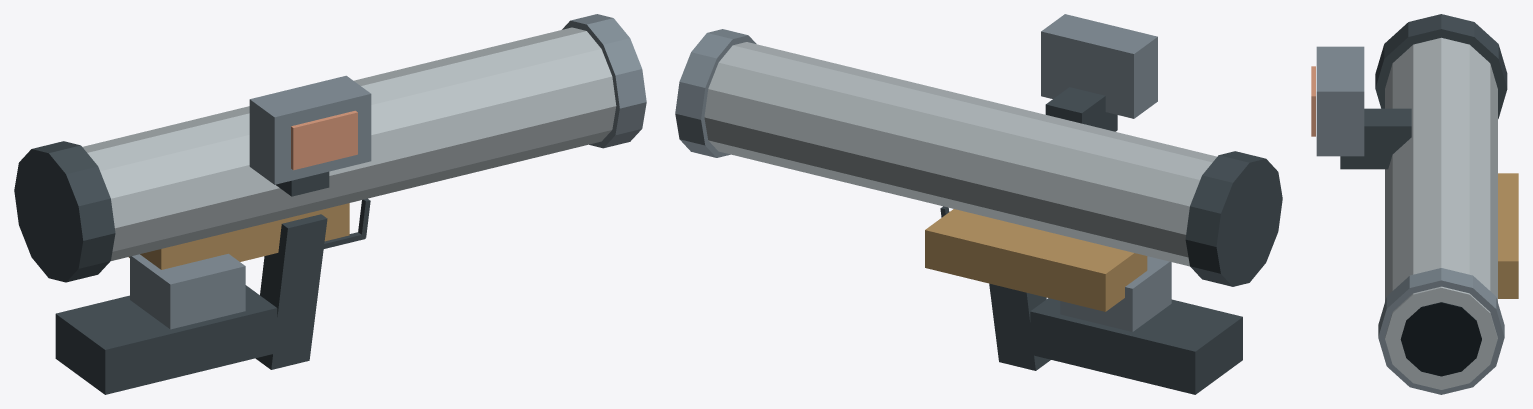
File: w19-pilgrim-static.glb
3 views of the same model, side by side, from view 1: azimuth 30°, elevation 25°; view 2: azimuth 150°, elevation 25°; view 3: azimuth 270°, elevation 25° (orthographic). The views are drawn at different scales.
Visible parts, largest first — view 1: w19-pilgrim__barrel.001, w19-pilgrim__shoulder_rest.001, w19-pilgrim__rear_exhaust.001, w19-pilgrim__targeting_unit.001, w19-pilgrim__grip.001, w19-pilgrim__shoulder_rest_mount.001, w19-pilgrim__muzzle_collar.001, w19-pilgrim__reload_tray.001, w19-pilgrim__sight_glass.001, w19-pilgrim__targeting_mount.001; view 2: w19-pilgrim__barrel.001, w19-pilgrim__reload_tray.001, w19-pilgrim__shoulder_rest.001, w19-pilgrim__rear_exhaust.001, w19-pilgrim__targeting_unit.001, w19-pilgrim__muzzle_collar.001, w19-pilgrim__shoulder_rest_mount.001, w19-pilgrim__grip.001, w19-pilgrim__targeting_mount.001; view 3: w19-pilgrim__barrel.001, w19-pilgrim__targeting_unit.001, w19-pilgrim__barrel_bore.001, w19-pilgrim__rear_exhaust.001, w19-pilgrim__muzzle_collar.001, w19-pilgrim__targeting_mount.001, w19-pilgrim__reload_tray.001, w19-pilgrim__sight_glass.001.
Boxes of the visible parts, x1,y1,x2,y2 form: w19-pilgrim__barrel.001: (82, 27, 616, 260); w19-pilgrim__shoulder_rest.001: (55, 285, 277, 394); w19-pilgrim__rear_exhaust.001: (14, 141, 115, 282); w19-pilgrim__targeting_unit.001: (249, 75, 371, 184); w19-pilgrim__grip.001: (255, 214, 327, 369); w19-pilgrim__shoulder_rest_mount.001: (130, 253, 245, 329); w19-pilgrim__muzzle_collar.001: (562, 14, 646, 148); w19-pilgrim__reload_tray.001: (128, 203, 349, 269); w19-pilgrim__sight_glass.001: (291, 110, 357, 170); w19-pilgrim__targeting_mount.001: (275, 171, 329, 196); w19-pilgrim__barrel.001: (704, 42, 1216, 266); w19-pilgrim__reload_tray.001: (925, 209, 1147, 311); w19-pilgrim__shoulder_rest.001: (1030, 298, 1242, 394); w19-pilgrim__rear_exhaust.001: (1185, 151, 1282, 286); w19-pilgrim__targeting_unit.001: (1041, 14, 1157, 118); w19-pilgrim__muzzle_collar.001: (675, 29, 756, 157); w19-pilgrim__shoulder_rest_mount.001: (1060, 256, 1171, 331); w19-pilgrim__grip.001: (989, 283, 1050, 370); w19-pilgrim__targeting_mount.001: (1045, 87, 1117, 131); w19-pilgrim__barrel.001: (1385, 37, 1497, 389); w19-pilgrim__targeting_unit.001: (1316, 46, 1364, 156); w19-pilgrim__barrel_bore.001: (1400, 302, 1481, 376); w19-pilgrim__rear_exhaust.001: (1375, 14, 1507, 118); w19-pilgrim__muzzle_collar.001: (1378, 268, 1504, 394); w19-pilgrim__targeting_mount.001: (1340, 108, 1411, 169); w19-pilgrim__reload_tray.001: (1498, 173, 1518, 298); w19-pilgrim__sight_glass.001: (1311, 66, 1315, 136).
Bounding box in the file's own units: 1.06 × 0.5448 × 0.349.
